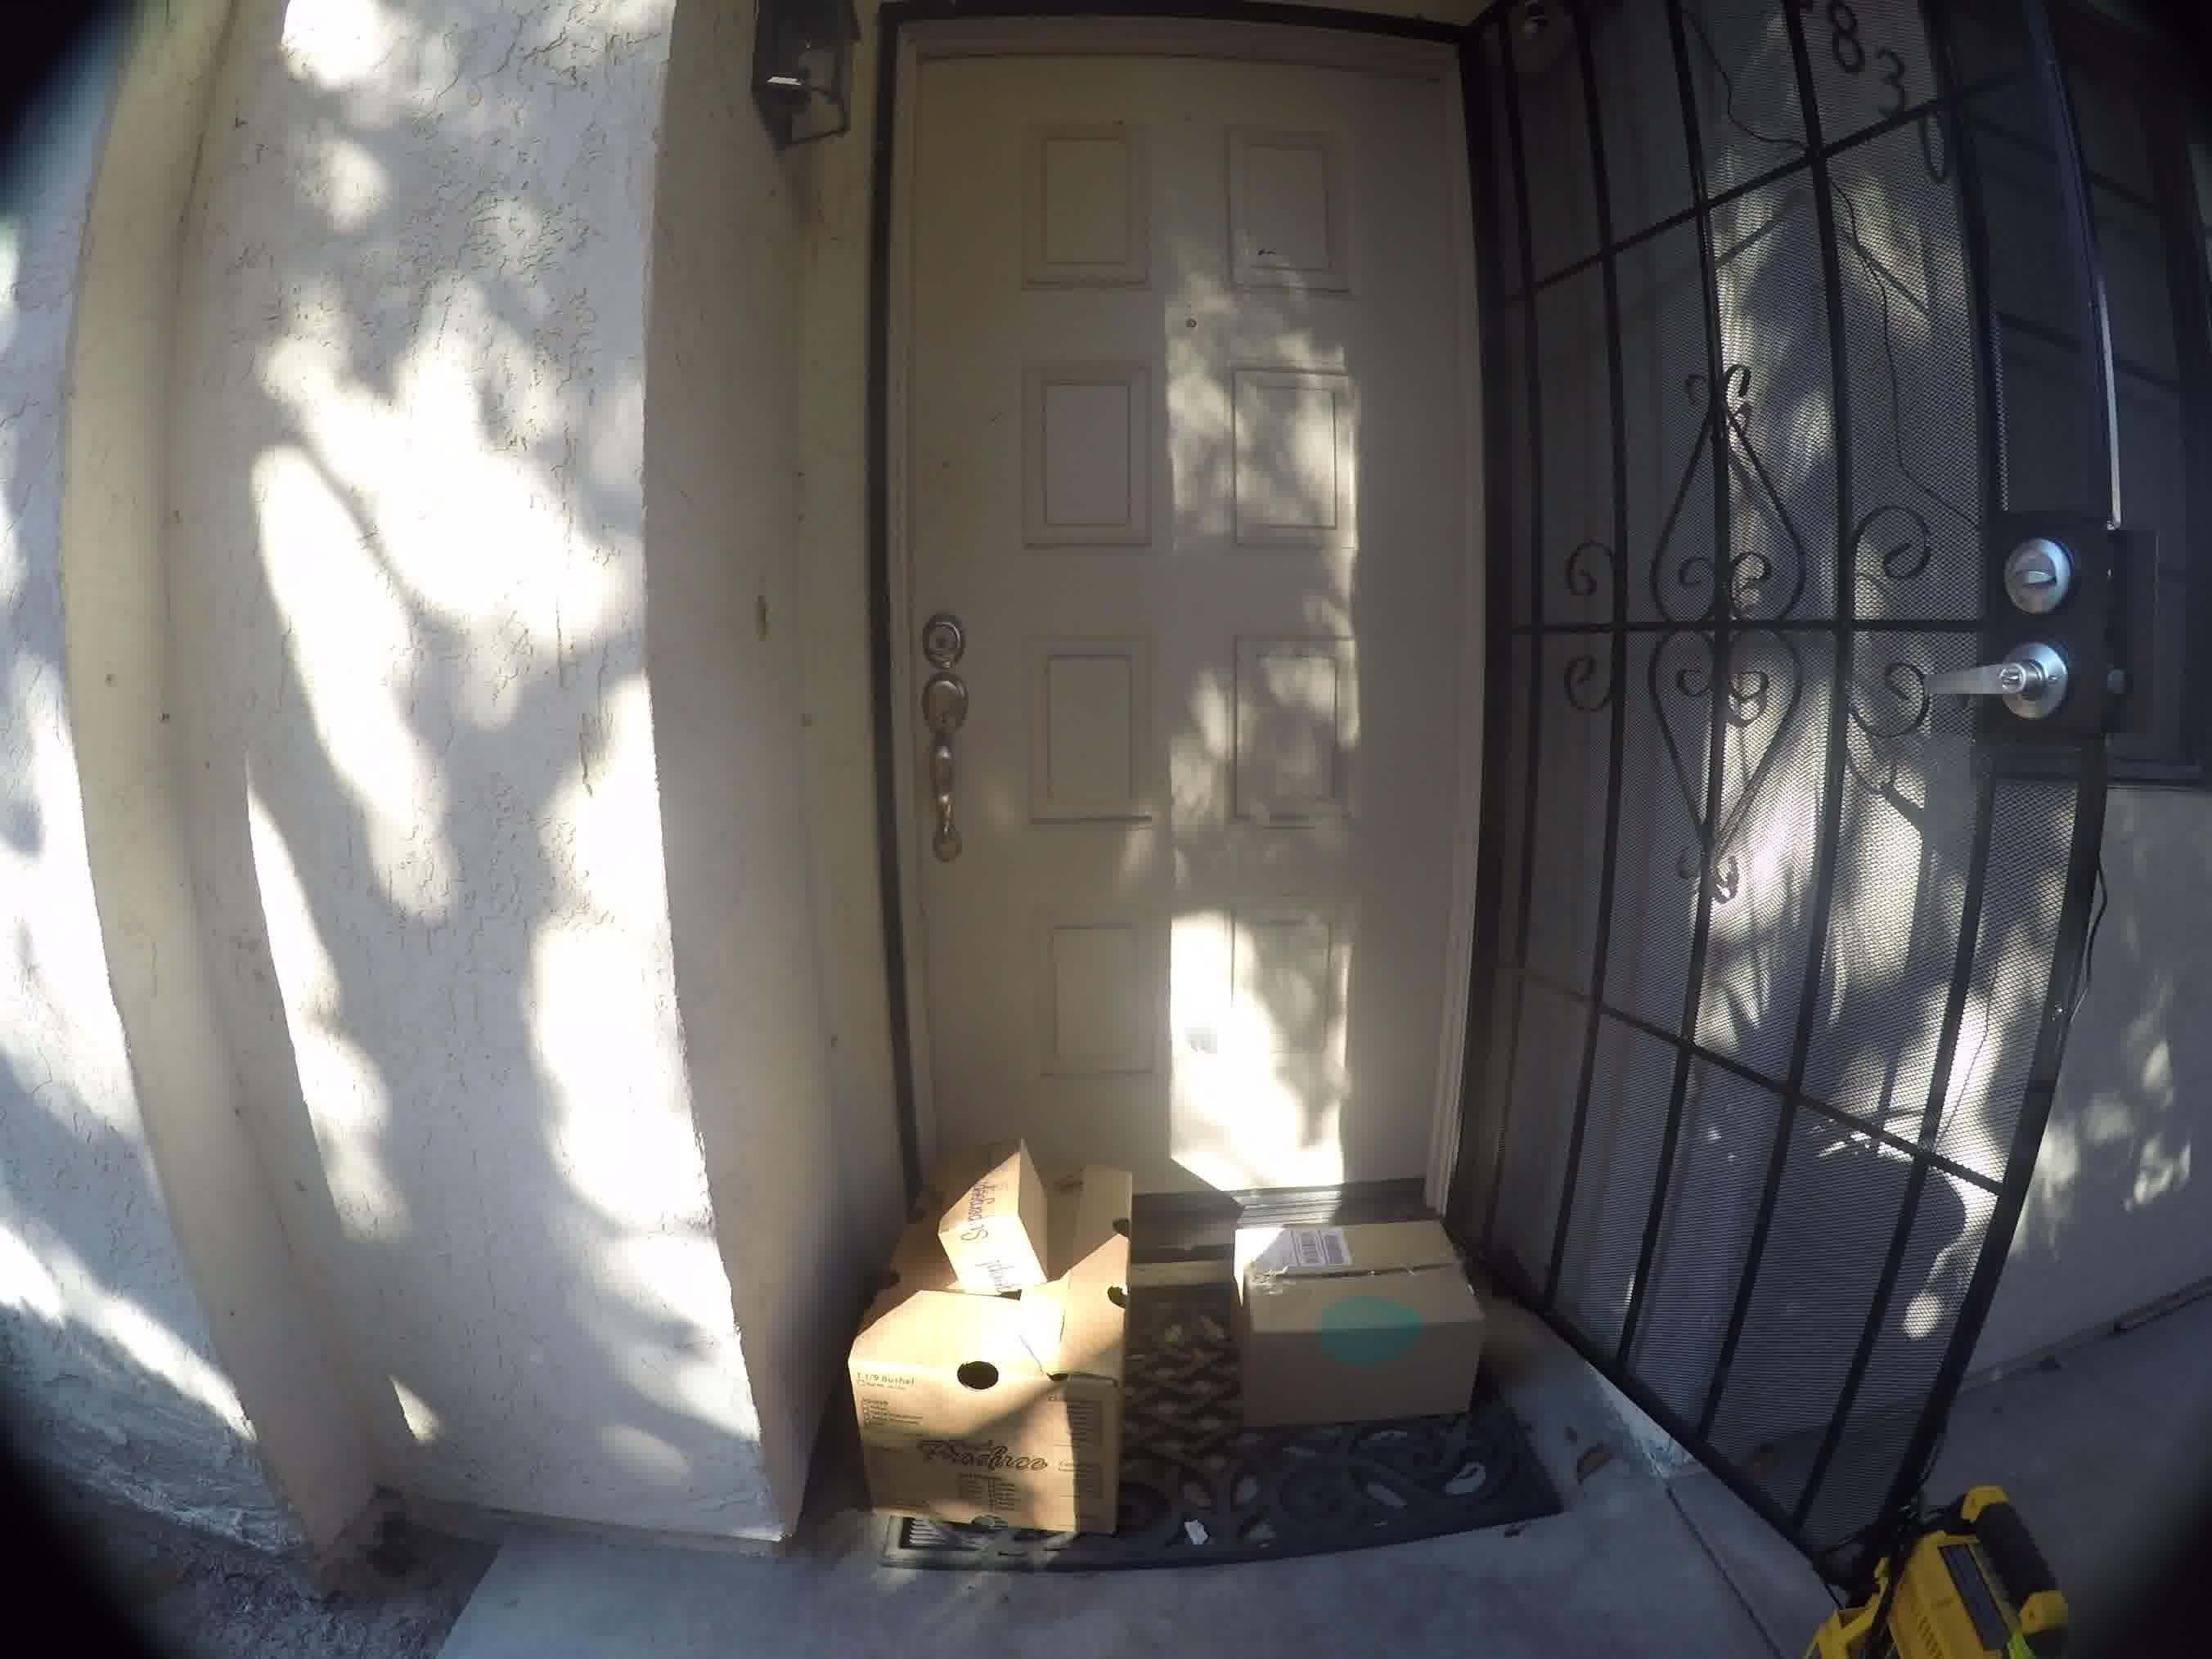box: (876, 1129, 1148, 1575), (1223, 1201, 1501, 1431)
